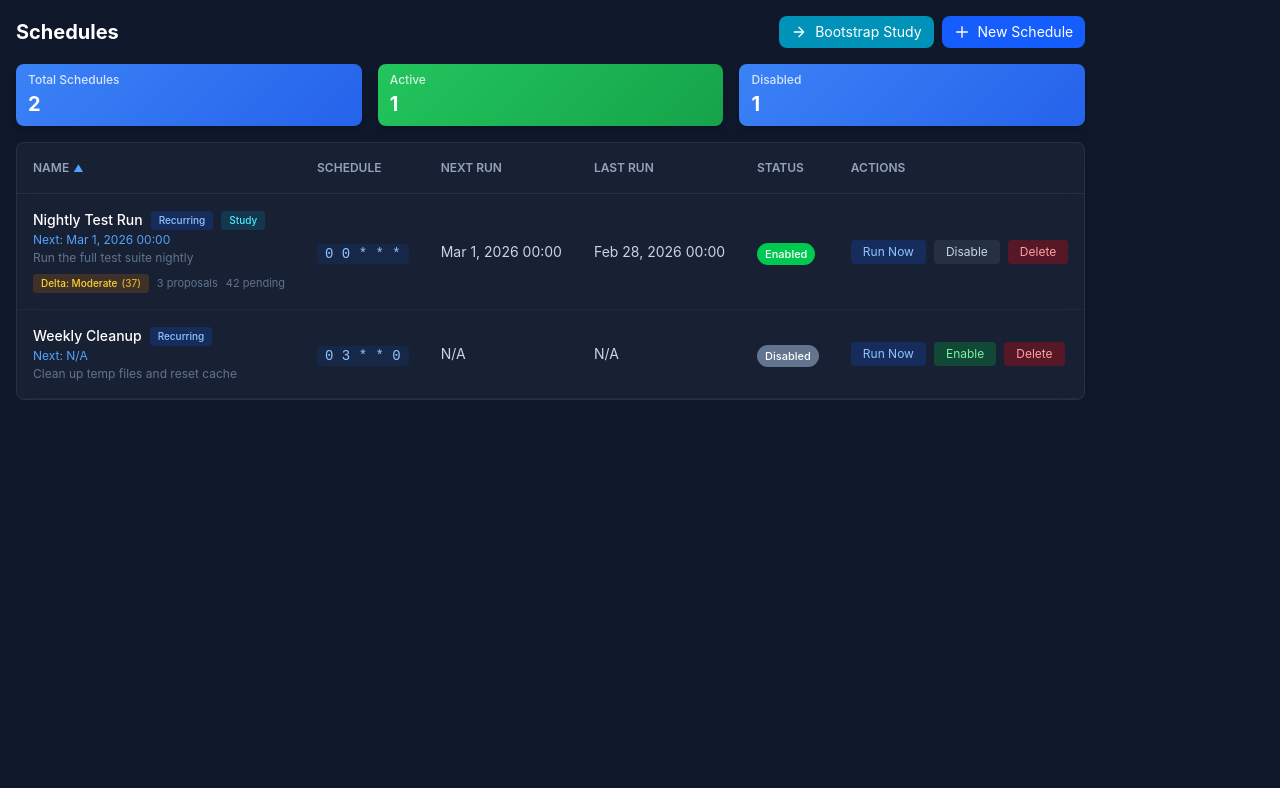
Schedules › hides form when Cancel is clicked
Click the button "New Schedule" at {"x": 1013, "y": 32}, box [942,16,1085,48]
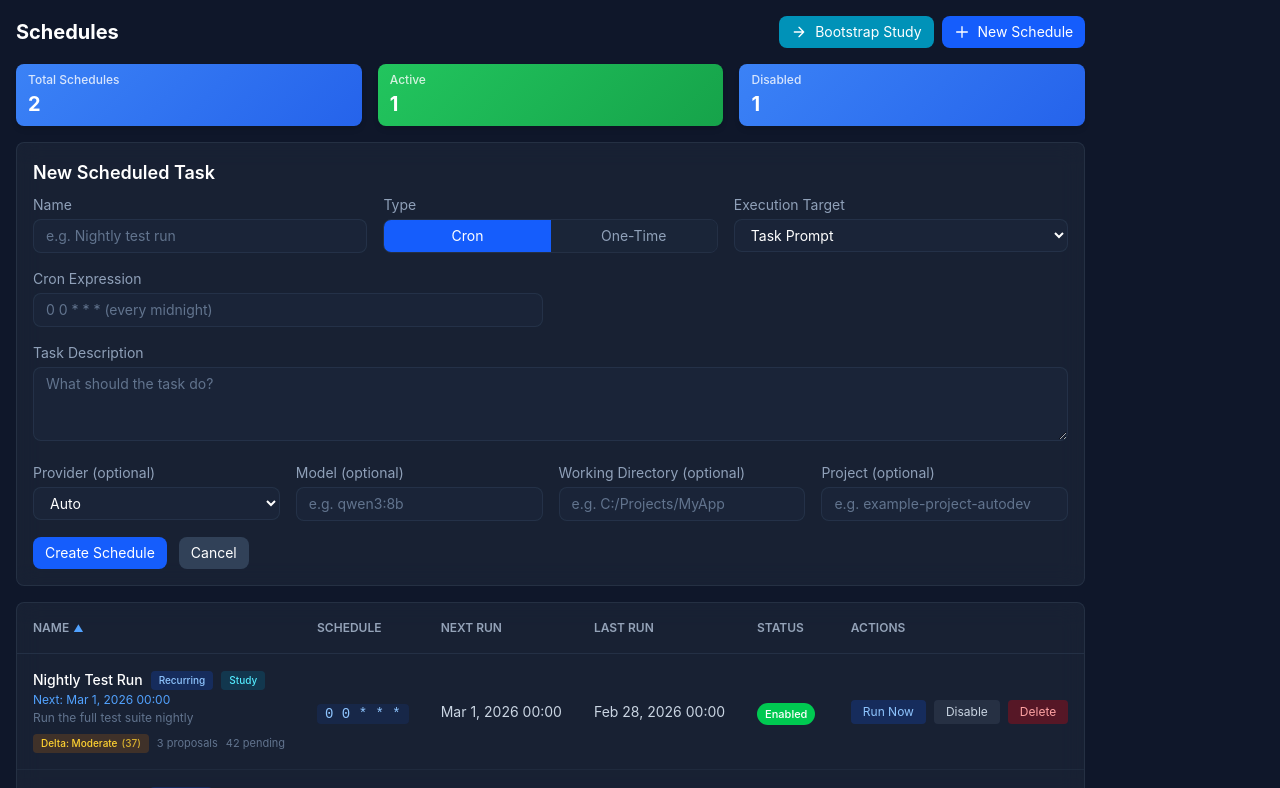
Expected: the heading "New Scheduled Task" is shown, [33,162,215,183]
Click the button "Cancel" at {"x": 214, "y": 553}, box [179,537,249,569]
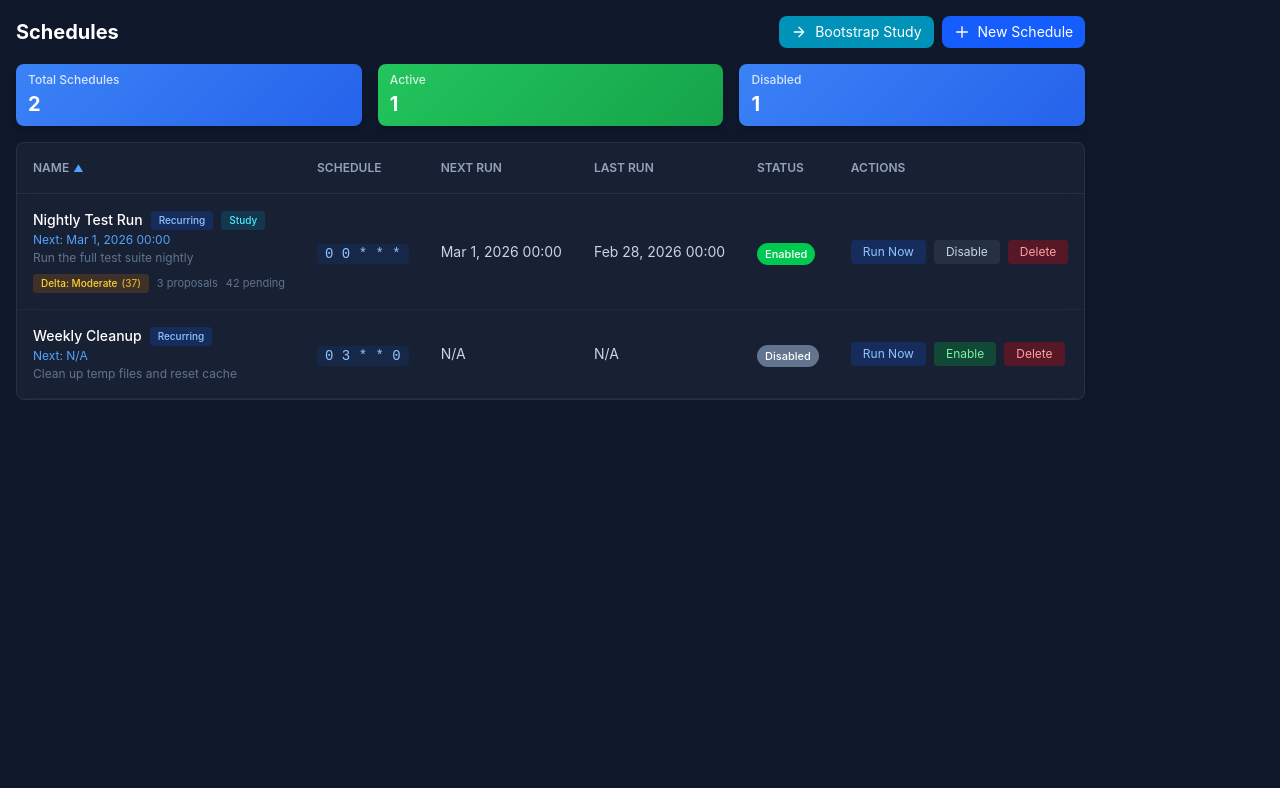
Expected: the heading "New Scheduled Task" is gone
